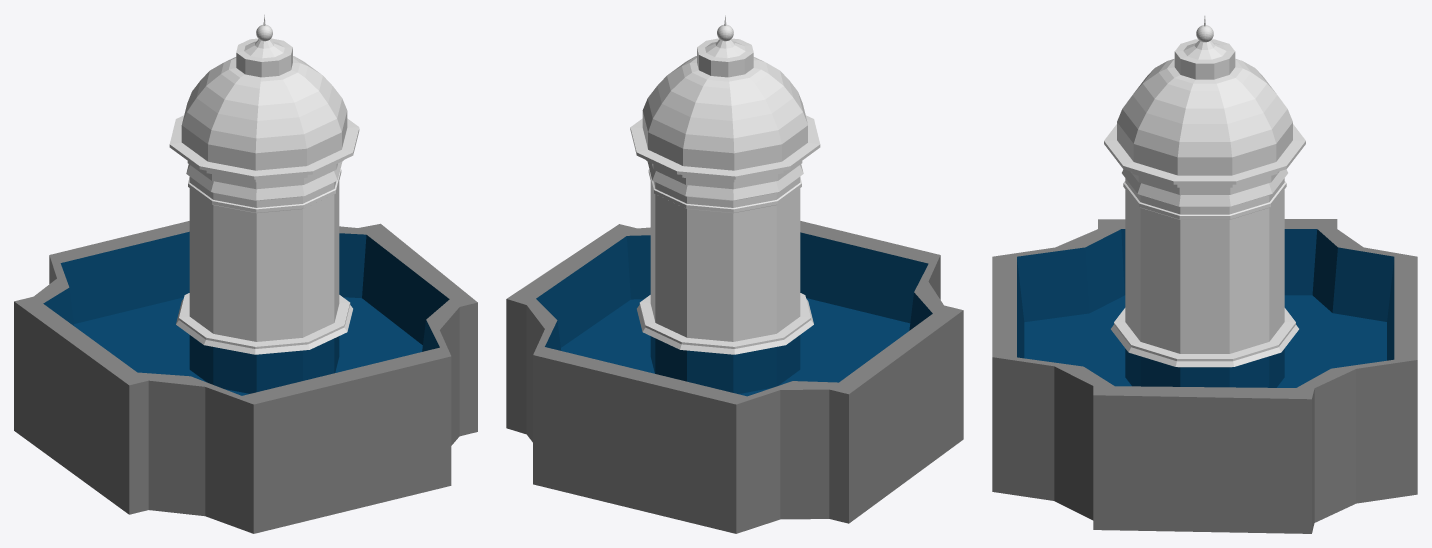
The model's file is Air Mancur.fbx.
3 renders of one model, left to right at view 1: azimuth 30°, elevation 25°; view 2: azimuth 150°, elevation 25°; view 3: azimuth 270°, elevation 25°, orthographic. The views are drawn at different scales.
Parts seen in each view (by area): view 1: Cube, Circle; view 2: Cube, Circle; view 3: Cube, Circle.
Boxes of the visible parts, box(x1,y1,x2,y2) form: Cube: box(14, 221, 477, 533); Circle: box(169, 15, 359, 393); Cube: box(506, 221, 963, 533); Circle: box(630, 15, 820, 393); Cube: box(992, 219, 1417, 533); Circle: box(1104, 16, 1305, 387).
Bounding box in the file's own units: 561 × 631 × 560.
